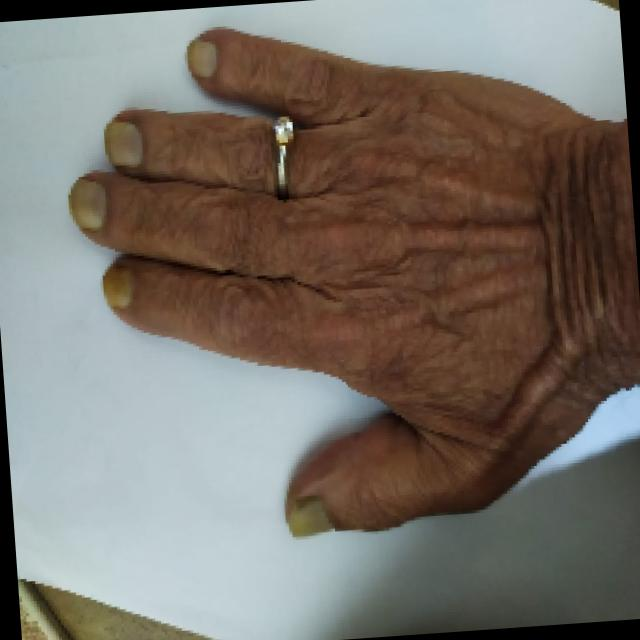Nail: (68, 178, 107, 229), (286, 496, 333, 536), (104, 122, 143, 165), (103, 267, 133, 307), (187, 39, 216, 76)
